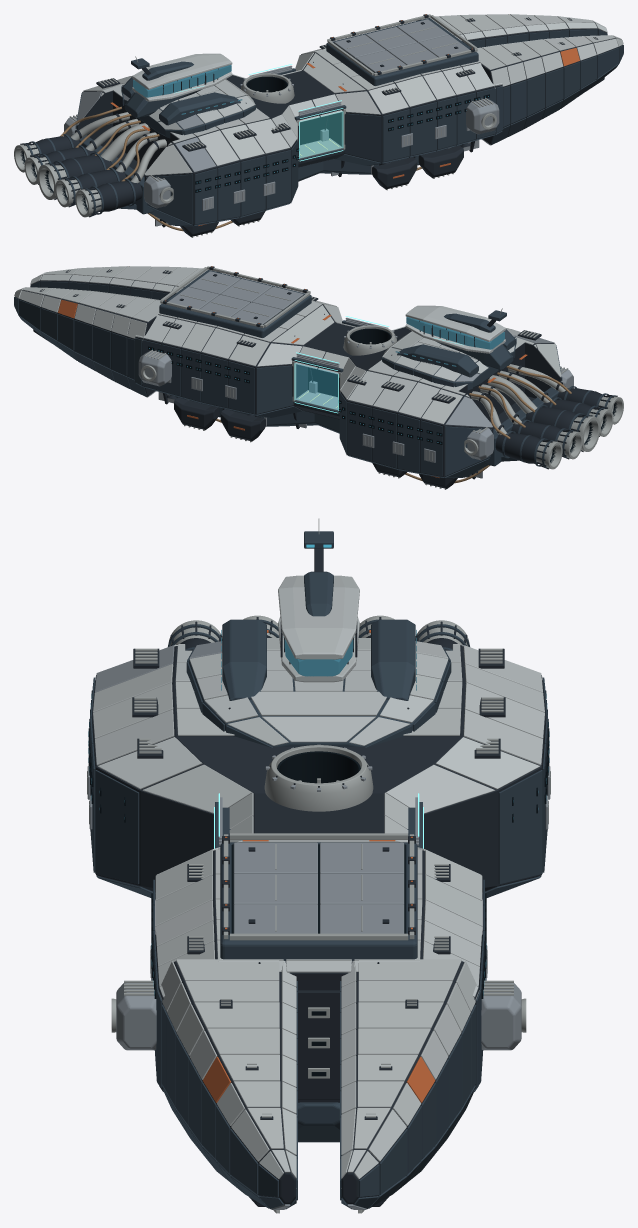
Rendered from vesper.glb.
3 renders of one model, top to bottom at view 1: azimuth 30°, elevation 25°; view 2: azimuth 150°, elevation 25°; view 3: azimuth 270°, elevation 25°, orthographic. The views are drawn at different scales.
Parts seen in each view (by area): view 1: Main hull / broad aft shoulders and inset neck, Cargo hold / pressure coaming, Segmented hull plating 06_5_0_0, Drone bay force field, Bridge cantilevered roof, Bridge stepped service wing, Segmented hull plating 02_5_0_0, Segmented hull plating 00_5_0_0, Segmented hull plating 07_5_1_0, Segmented hull plating 02_5_1_0, Segmented hull plating 06_7_0_0, Segmented hull plating 07_5_0_0 (+74 smaller); view 2: Main hull / broad aft shoulders and inset neck, Cargo hold / pressure coaming, Segmented hull plating 06_1_0_0, Drone bay force field.001, Bridge cantilevered roof, Bridge stepped service wing.001, Segmented hull plating 02_1_0_0, Segmented hull plating 00_1_0_0, Segmented hull plating 07_1_1_0, Segmented hull plating 02_1_1_0, Segmented hull plating 06_7_0_0, Segmented hull plating 07_1_0_0 (+74 smaller); view 3: Main hull / broad aft shoulders and inset neck, Cargo hold / pressure coaming, Bridge cantilevered roof, Segmented hull plating 03_1_0_0, Segmented hull plating 03_5_0_0, Bow channel pressure bulkhead, Reactor socket / machined outer collar, Bridge stepped service wing.001, Bridge stepped service wing, Aft citadel armor 03_7_0_0, Segmented hull plating 04_6_0_0, Segmented hull plating 04_0_0_0 (+61 smaller).
Boxes of the visible parts, x1,y1,x2,y2 form: Main hull / broad aft shoulders and inset neck: (76,52,502,225); Cargo hold / pressure coaming: (326,18,478,85); Segmented hull plating 06_5_0_0: (344,113,381,161); Drone bay force field: (300,111,341,157); Bridge cantilevered roof: (132,53,232,89); Bridge stepped service wing: (159,92,240,125); Segmented hull plating 02_5_0_0: (241,156,265,216); Segmented hull plating 00_5_0_0: (146,174,193,224); Segmented hull plating 07_5_1_0: (410,102,436,155); Segmented hull plating 02_5_1_0: (266,150,290,208); Segmented hull plating 06_7_0_0: (303,53,365,93); Segmented hull plating 07_5_0_0: (383,109,409,161); Main hull / broad aft shoulders and inset neck: (135,304,561,477); Cargo hold / pressure coaming: (159,270,311,337); Segmented hull plating 06_1_0_0: (256,365,293,413); Drone bay force field.001: (296,363,337,409); Bridge cantilevered roof: (405,305,505,341); Bridge stepped service wing.001: (397,344,478,377); Segmented hull plating 02_1_0_0: (372,408,396,468); Segmented hull plating 00_1_0_0: (444,426,491,476); Segmented hull plating 07_1_1_0: (201,354,227,407); Segmented hull plating 02_1_1_0: (347,402,371,460); Segmented hull plating 06_7_0_0: (272,305,334,345); Segmented hull plating 07_1_0_0: (228,361,254,413); Main hull / broad aft shoulders and inset neck: (92,646,545,1102); Cargo hold / pressure coaming: (220,842,417,961); Bridge cantilevered roof: (278,575,359,659); Segmented hull plating 03_1_0_0: (498,770,542,884); Segmented hull plating 03_5_0_0: (95,770,139,884); Bow channel pressure bulkhead: (298,990,339,1099); Reactor socket / machined outer collar: (264,745,373,811); Bridge stepped service wing.001: (371,619,415,700); Bridge stepped service wing: (222,619,266,700); Aft citadel armor 03_7_0_0: (251,691,386,715); Segmented hull plating 04_6_0_0: (142,764,252,813); Segmented hull plating 04_0_0_0: (385,764,495,813).
Size of the model in its own units: 352 by 105 by 125.
